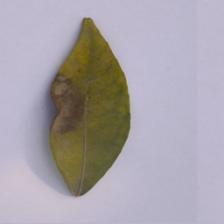black spot: (36, 67, 96, 140)
